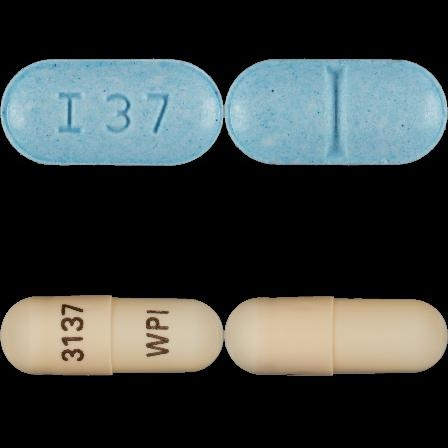42254-090: (0, 0, 224, 224)
